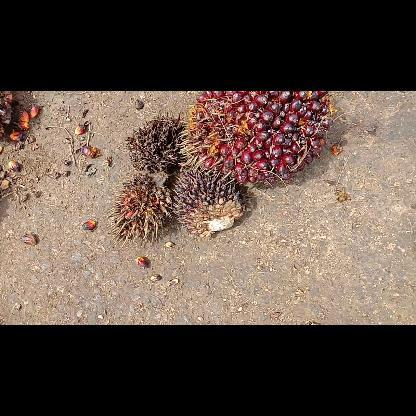TBS abnormal: (168, 169, 246, 241), (108, 173, 172, 245), (124, 114, 186, 176)
TBS masak: (180, 91, 334, 185)
